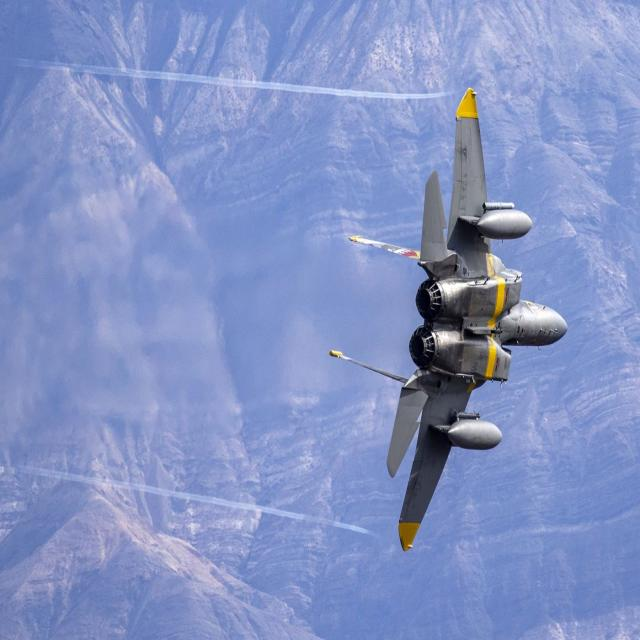MIL_Plane: (328, 86, 568, 553)
